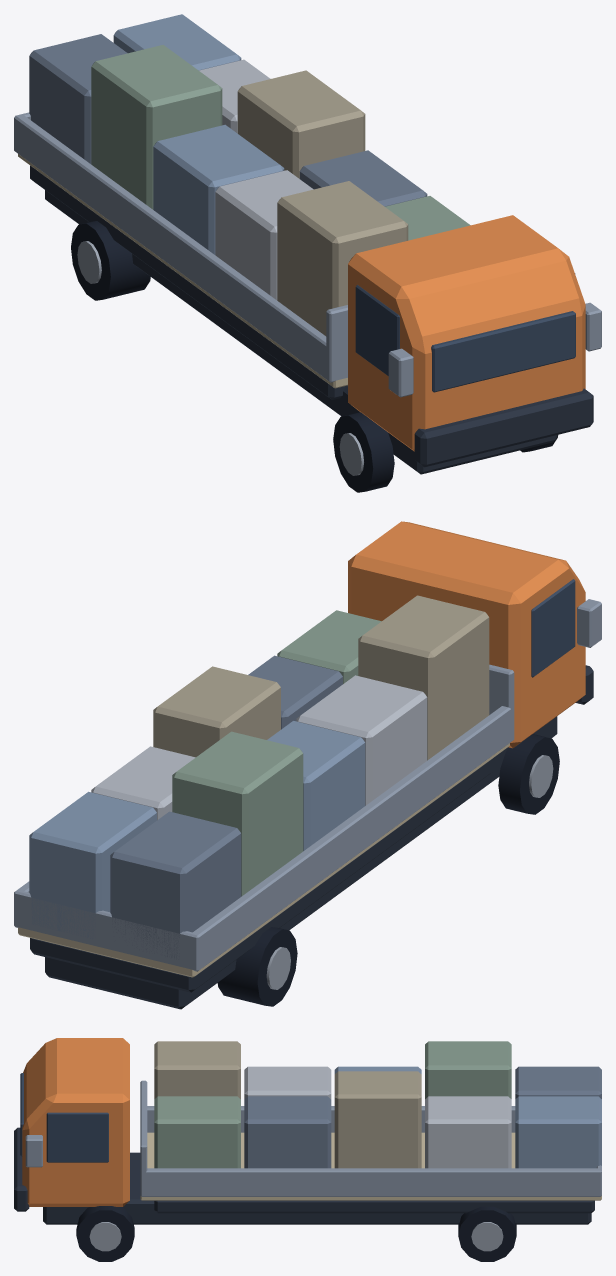
File: truck_4t_loaded.glb
The picture shows the model from 3 angles, top to bottom: view 1: azimuth 30°, elevation 25°; view 2: azimuth 150°, elevation 25°; view 3: azimuth 270°, elevation 25°; orthographic projection. The views are drawn at different scales.
Visible parts, largest first — view 1: truck_4t_loaded; view 2: truck_4t_loaded; view 3: truck_4t_loaded.
Part boxes in pixels (box(x1,y1,x2,y2)): truck_4t_loaded: box(14, 14, 601, 492); truck_4t_loaded: box(14, 521, 601, 1009); truck_4t_loaded: box(14, 1038, 601, 1261).
Size of the model in its own units: 2.46 by 2.59 by 8.47.
